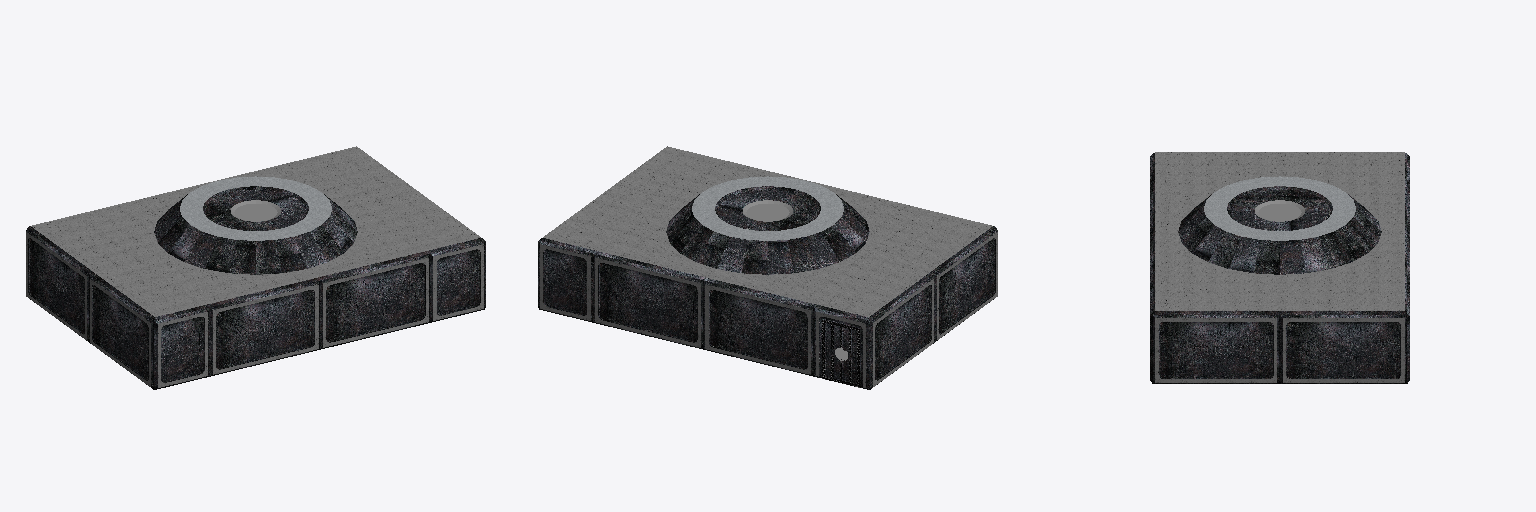
3 renders of one model, left to right at view 1: azimuth 30°, elevation 25°; view 2: azimuth 150°, elevation 25°; view 3: azimuth 270°, elevation 25°, orthographic.
Visible parts, largest first — view 1: Mesh11_Uni_o4_Group6_Model, Mesh22_Parede5_Model, Mesh23_Parede6_Model, Mesh21_Parede4_Model, Mesh20_Parede3_Model, Mesh9_Group4_Model, Mesh10_Group5_Model; view 2: Mesh11_Uni_o4_Group6_Model, Mesh19_Parede2_Model, Mesh18_Parede1_Model, Mesh21_Parede4_Model, Mesh20_Parede3_Model, Mesh8_Group3_Model, Mesh12_Porta_Group7_Model; view 3: Mesh11_Uni_o4_Group6_Model, Mesh24_Parede7_Model, Mesh25_Parede8_Model.
Part boxes in pixels (x1,y1,x2,y2): Mesh11_Uni_o4_Group6_Model: (28,146,483,320); Mesh22_Parede5_Model: (209,281,319,376); Mesh23_Parede6_Model: (320,254,429,349); Mesh21_Parede4_Model: (90,275,153,389); Mesh20_Parede3_Model: (26,228,90,342); Mesh9_Group4_Model: (430,240,484,322); Mesh10_Group5_Model: (154,308,208,389); Mesh11_Uni_o4_Group6_Model: (540,146,995,320); Mesh19_Parede2_Model: (704,281,814,376); Mesh18_Parede1_Model: (594,254,703,349); Mesh21_Parede4_Model: (933,228,997,342); Mesh20_Parede3_Model: (870,275,933,389); Mesh8_Group3_Model: (539,240,593,322); Mesh12_Porta_Group7_Model: (815,308,869,389); Mesh11_Uni_o4_Group6_Model: (1153,152,1406,314); Mesh24_Parede7_Model: (1280,315,1406,383); Mesh25_Parede8_Model: (1153,315,1279,383).
Size of the model in its own units: 15.2 by 4.1 by 10.2.
Materials: 12 (8 with a texture image).